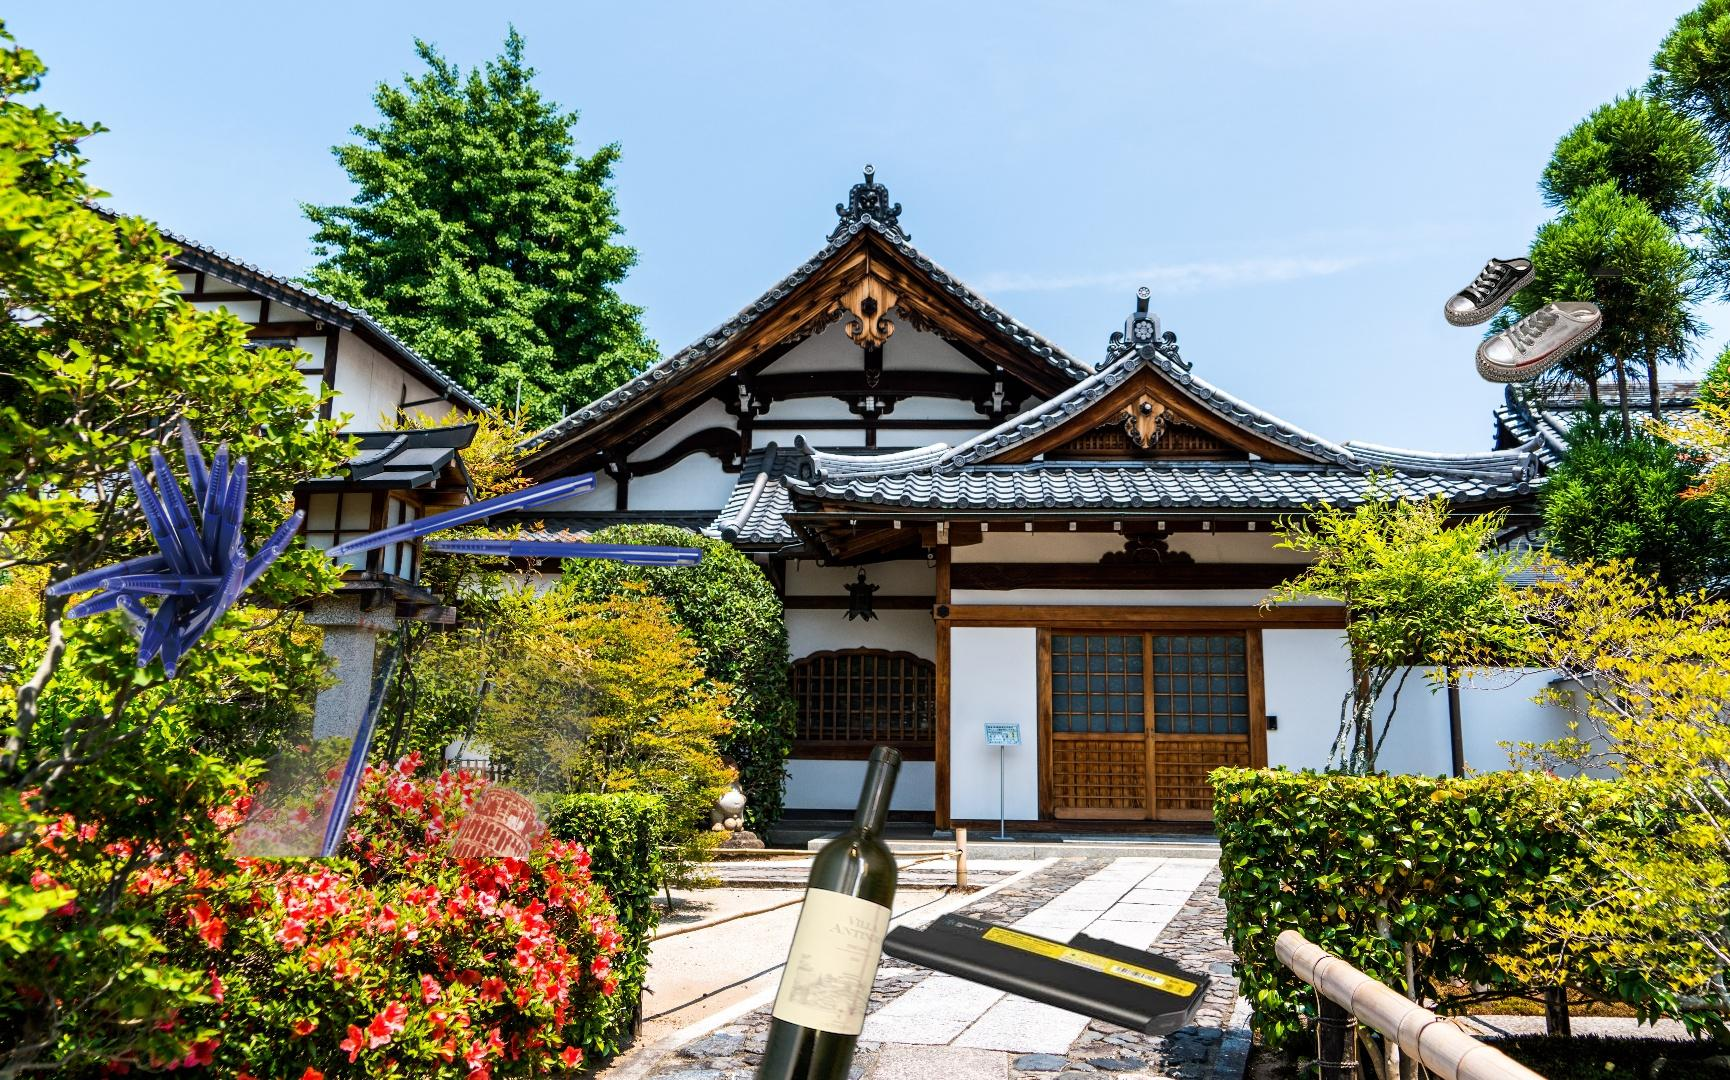battery: (881, 910, 1214, 1039)
glass: (742, 739, 907, 1080)
penholder: (37, 413, 709, 857)
shoes: (1441, 255, 1626, 386)
